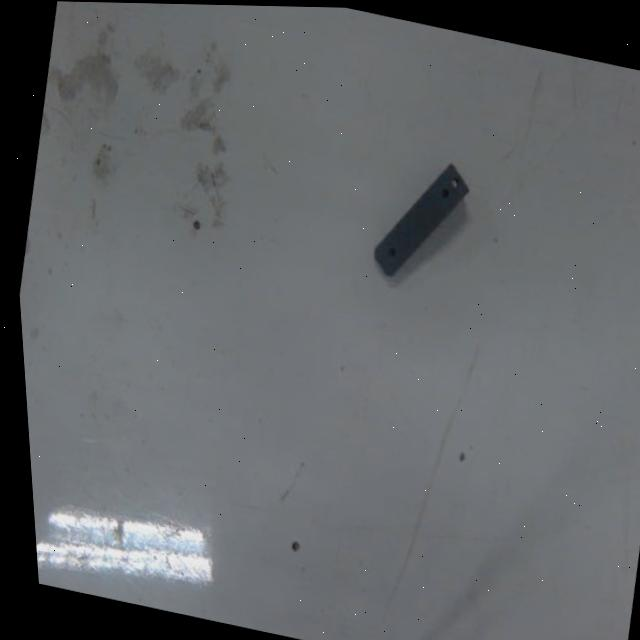grey: (363, 143, 482, 295)
head: (383, 238, 403, 265)
